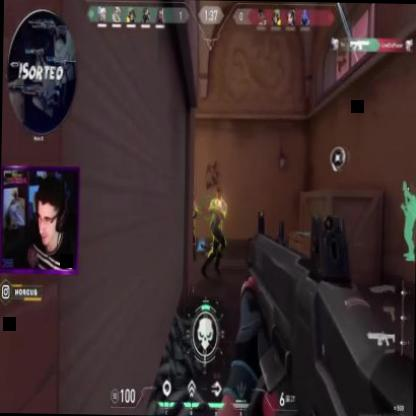enemy: (200, 186, 227, 278), (183, 187, 198, 261)
enemy_head: (187, 190, 194, 205), (215, 186, 222, 200)
